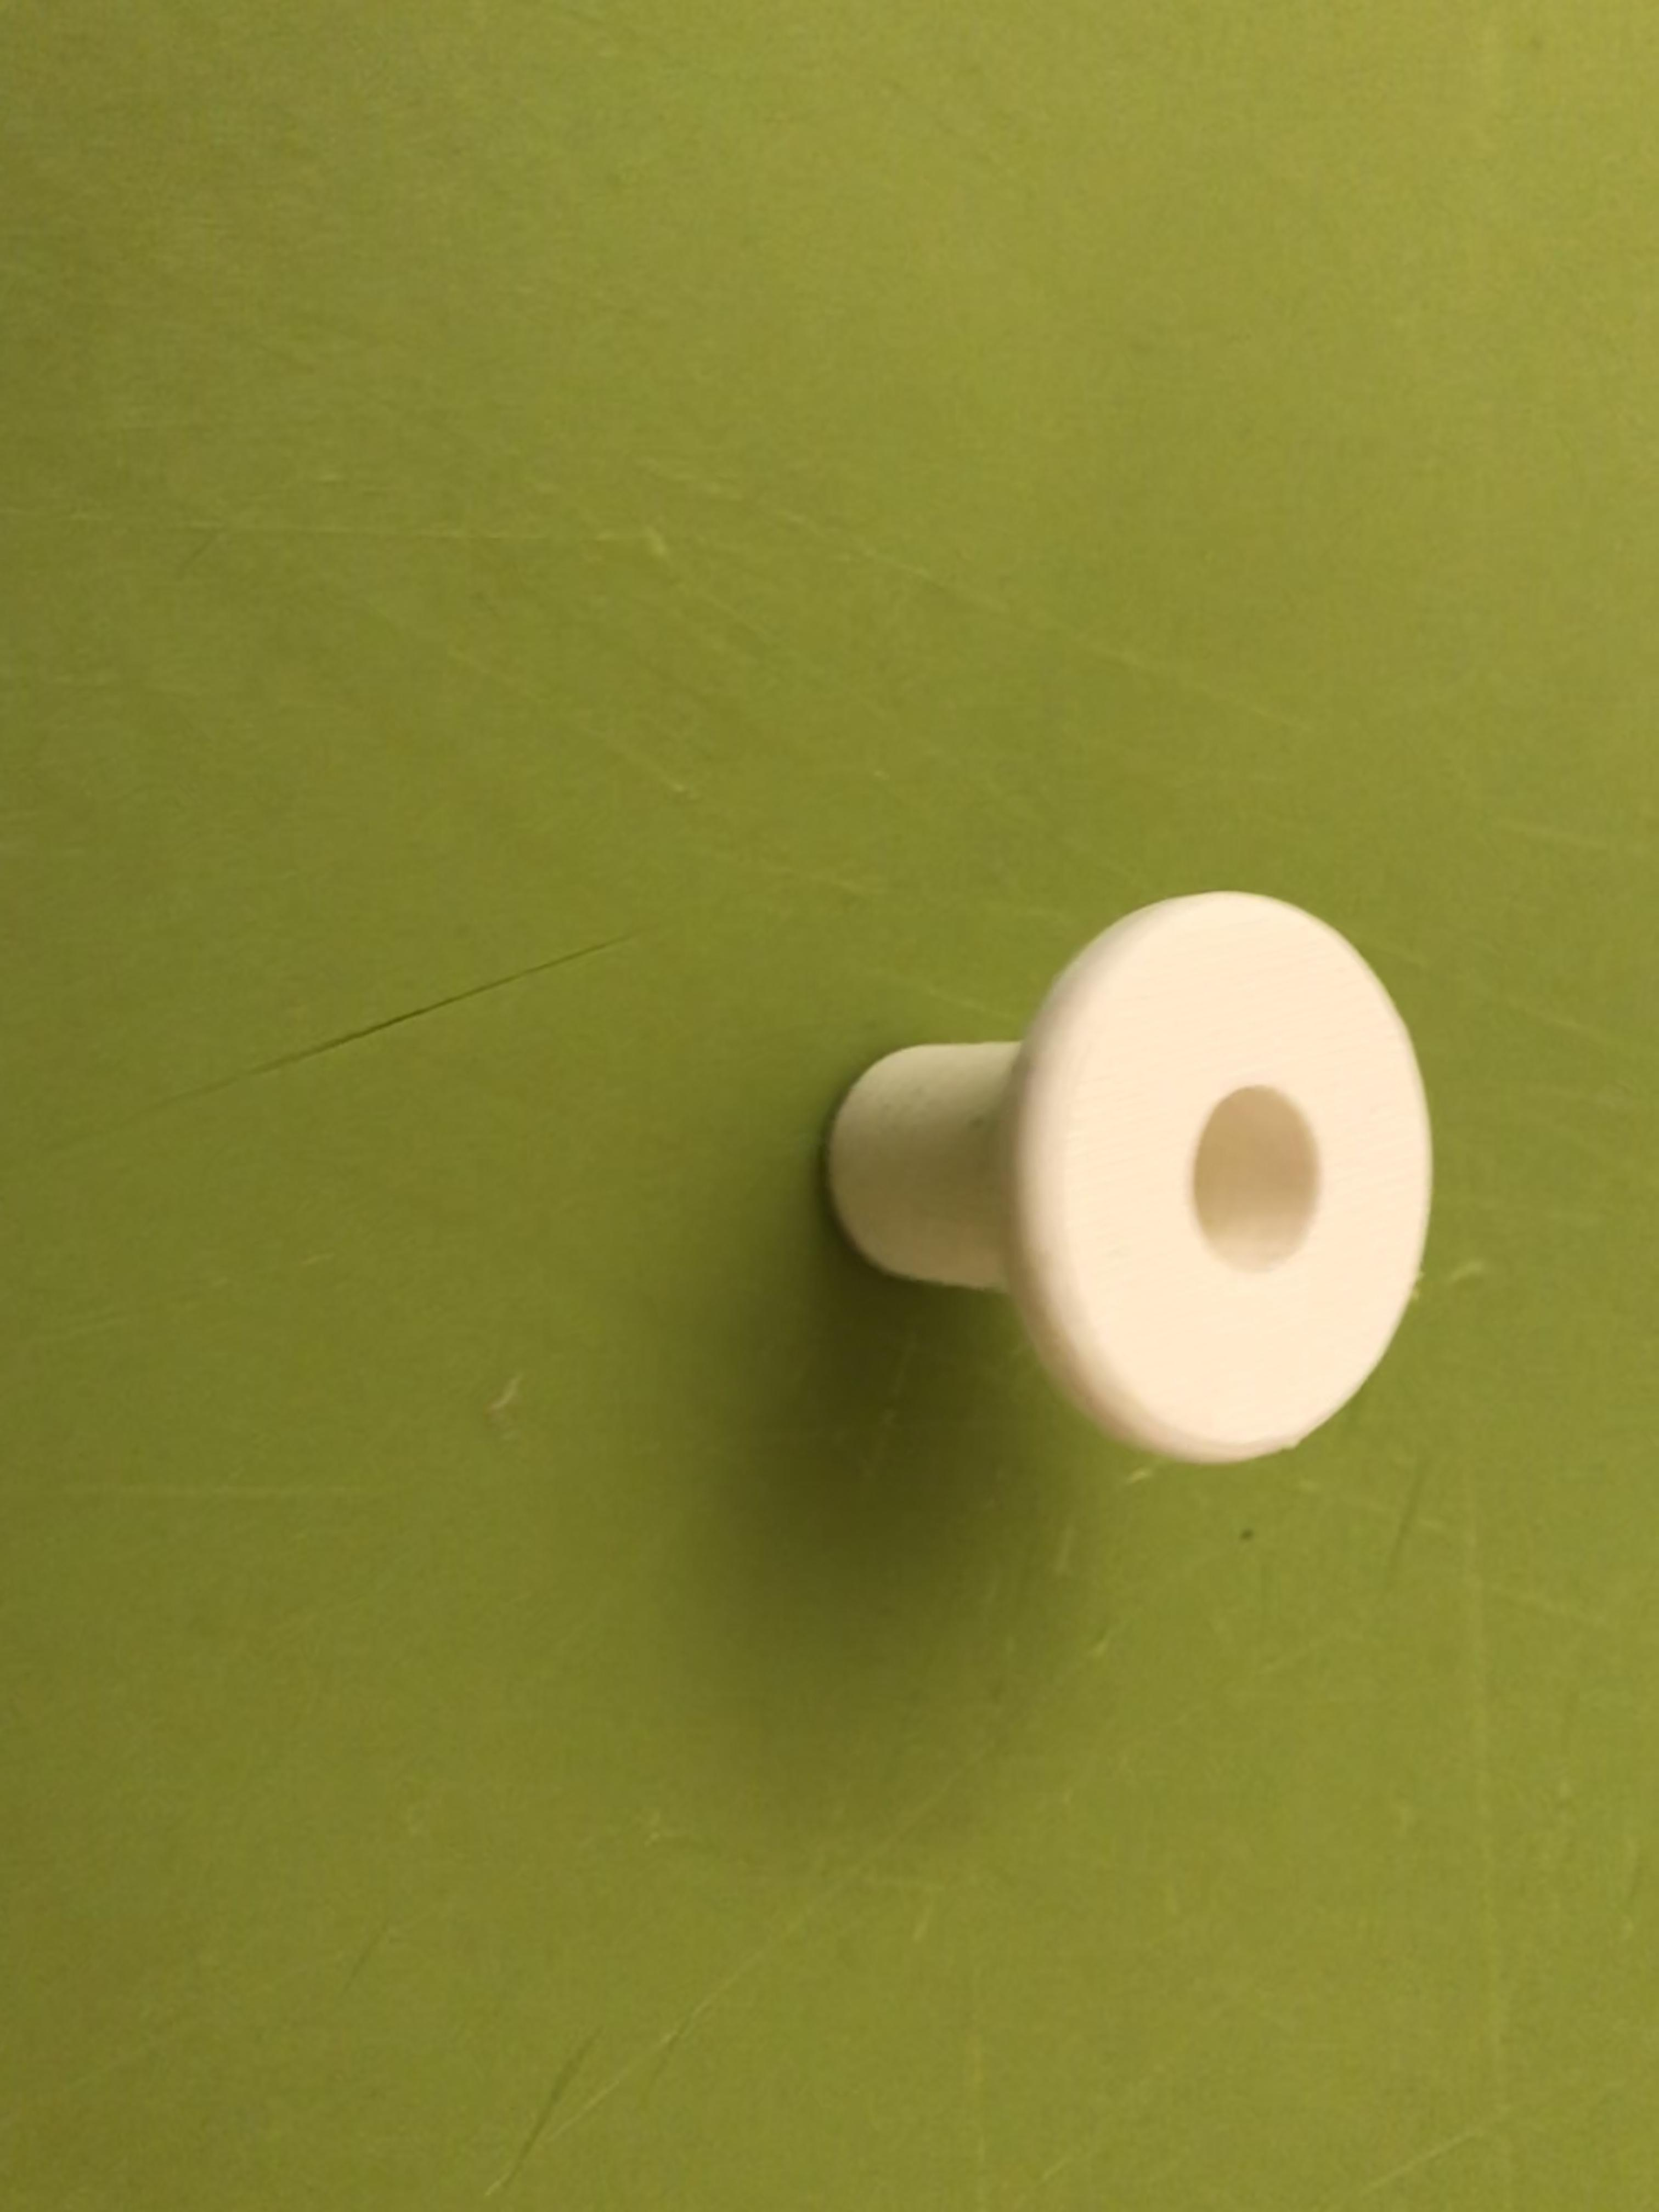White Cone: (800, 881, 1448, 1489)
